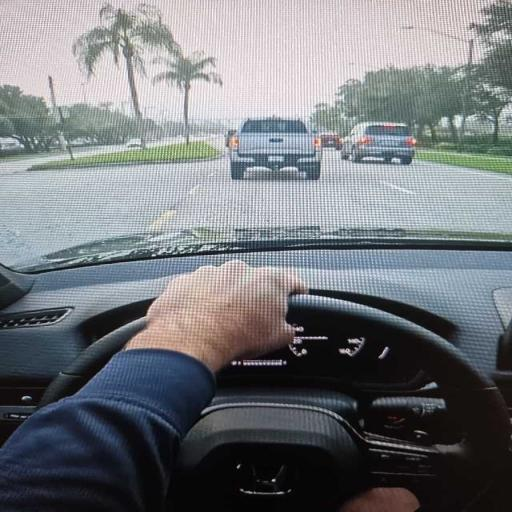car: (230, 118, 321, 180), (342, 122, 415, 164), (0, 137, 23, 154), (320, 133, 342, 150), (225, 130, 236, 147), (125, 139, 143, 147)
lane: (0, 151, 511, 264), (0, 161, 217, 264)
person: (0, 262, 307, 511)
